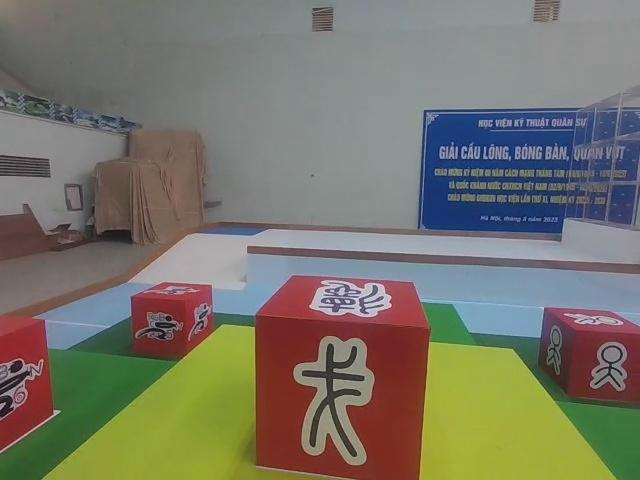R1: (0, 309, 58, 455), (128, 279, 216, 359)
R2 Fake: (251, 269, 434, 480)
R2 Real: (535, 305, 640, 407)
